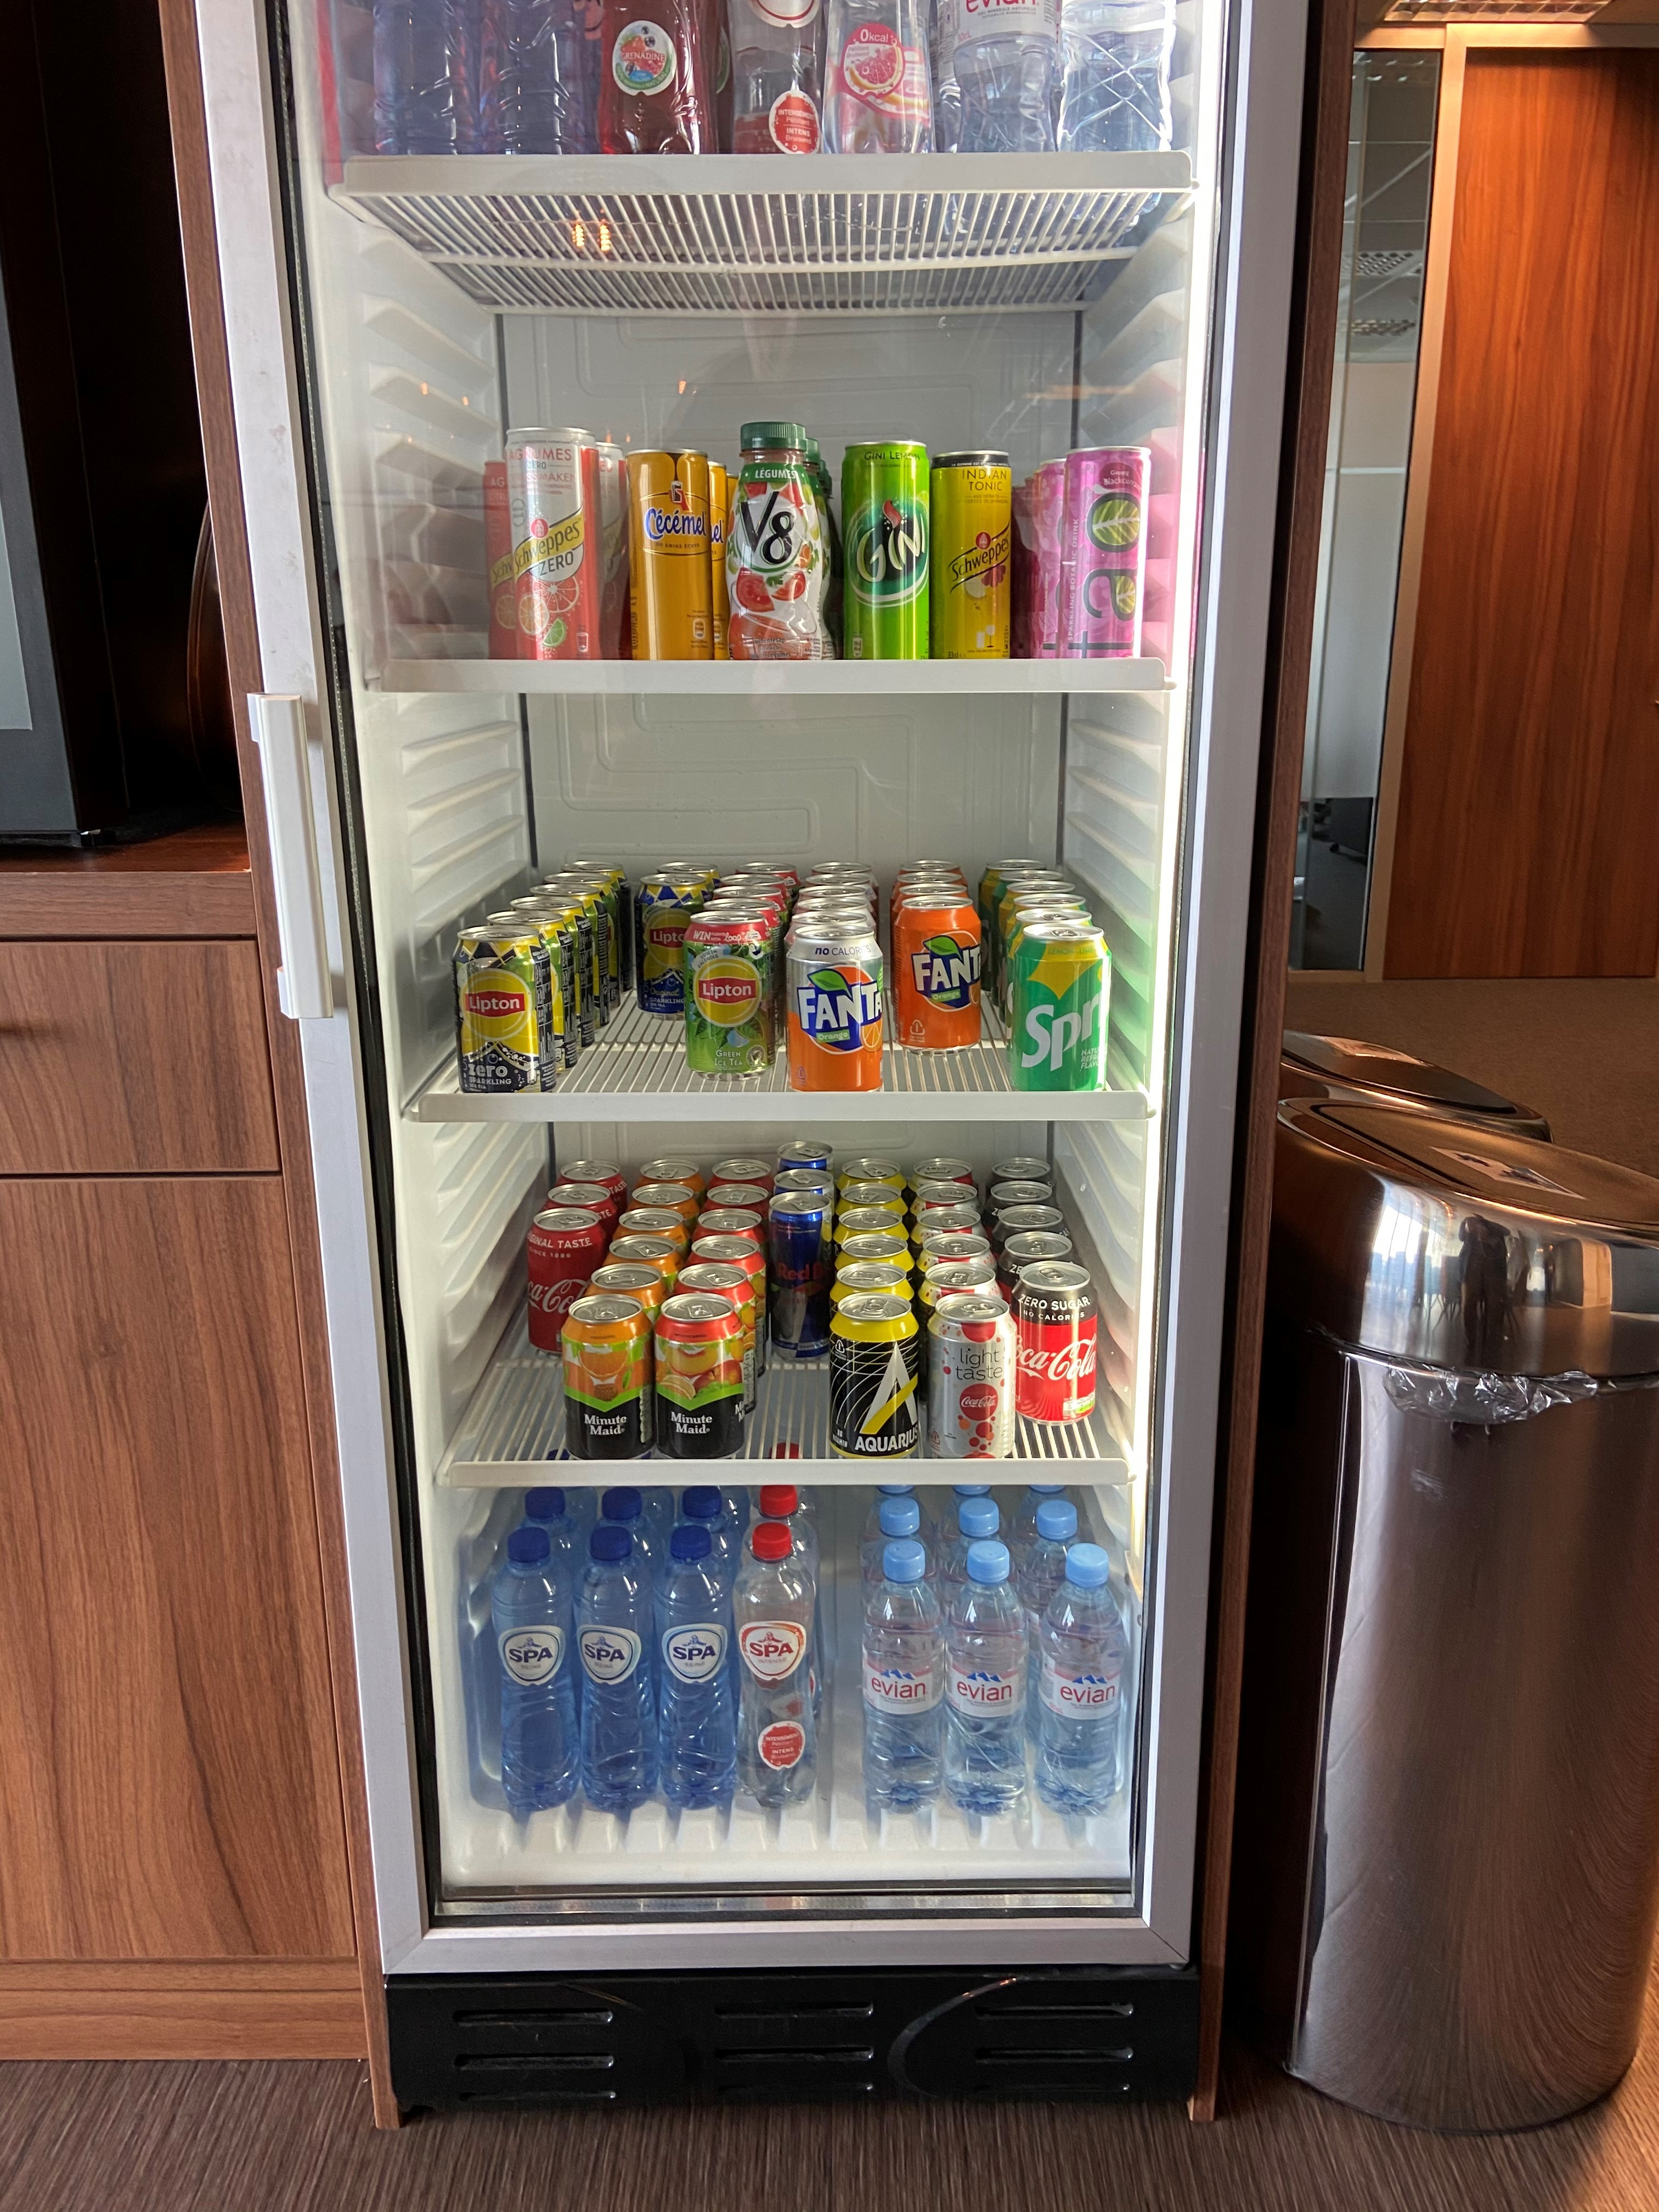AquariusLemonBlik: (830, 1294, 920, 1458)
Cecemel: (626, 449, 714, 662)
CocaColaBlik33cl: (528, 1211, 606, 1353)
CocaColaLightBlik330ml: (929, 1294, 1018, 1461)
CocaColaZeroBlik330ml: (1011, 1259, 1100, 1428)
EvianOriginal50cl: (1033, 1543, 1131, 1818), (946, 1540, 1033, 1817), (861, 1540, 945, 1813)
FantaOrangeBlik330ml: (896, 899, 981, 1054)
FantaOrangeNoCalBlik330ml: (786, 928, 884, 1090)
GiniBlik33cl: (842, 439, 929, 665)
LiptonGreenIceTeaBlik: (687, 911, 775, 1083)
LiptonOriginalSparklingBlik: (636, 874, 711, 1017)
LiptonZeroSparklingBlik: (450, 927, 556, 1094)
MinuteMaidAppelPerzik: (653, 1294, 748, 1460)
MinuteMaidSinaasappel: (561, 1296, 653, 1461)
RedBullOriginalBlik250ml: (769, 1191, 835, 1362)
SchweppesAgrumZero: (504, 427, 599, 660), (483, 456, 552, 662)
SchweppesIndianTonic: (931, 451, 1014, 660)
SpaBlauw50cl: (490, 1527, 573, 1815), (653, 1524, 734, 1811), (575, 1526, 655, 1810)
SpaRood50cl: (730, 1521, 819, 1804)
SpriteBlik: (1009, 925, 1112, 1094)
TaoBlackcurrant: (1060, 446, 1155, 658)
V8: (725, 421, 823, 662)
